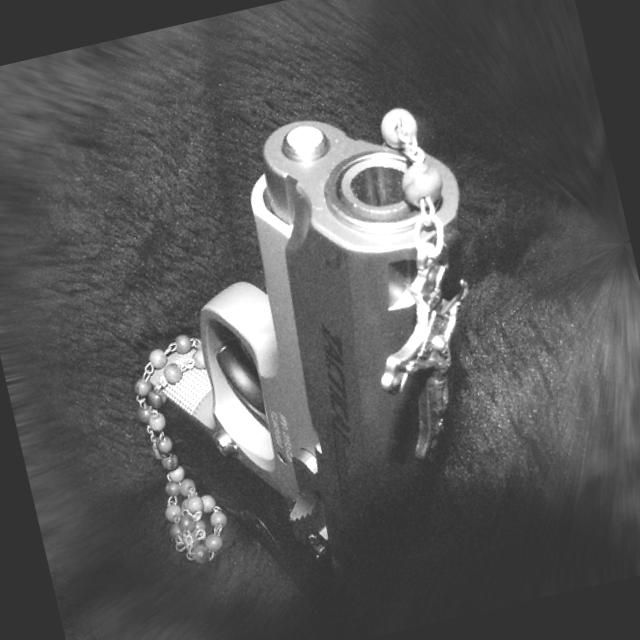handgun: (76, 91, 545, 624)
